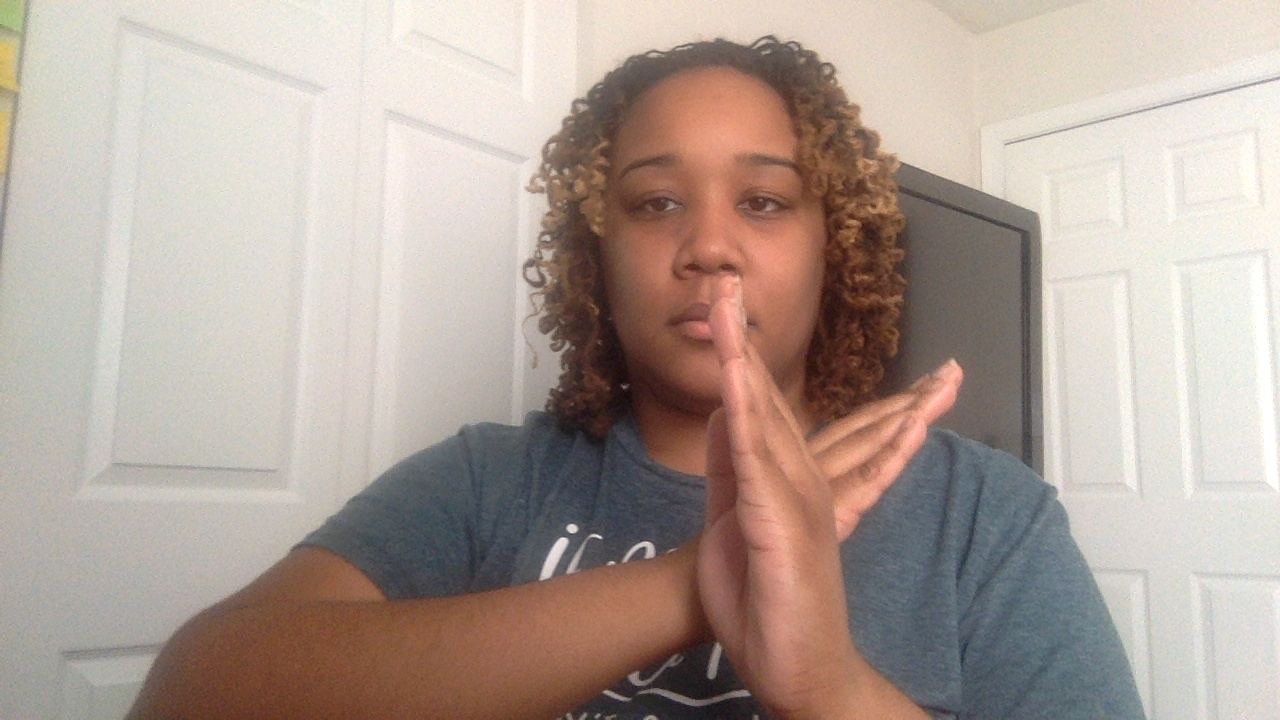quiet: (690, 280, 985, 720)
